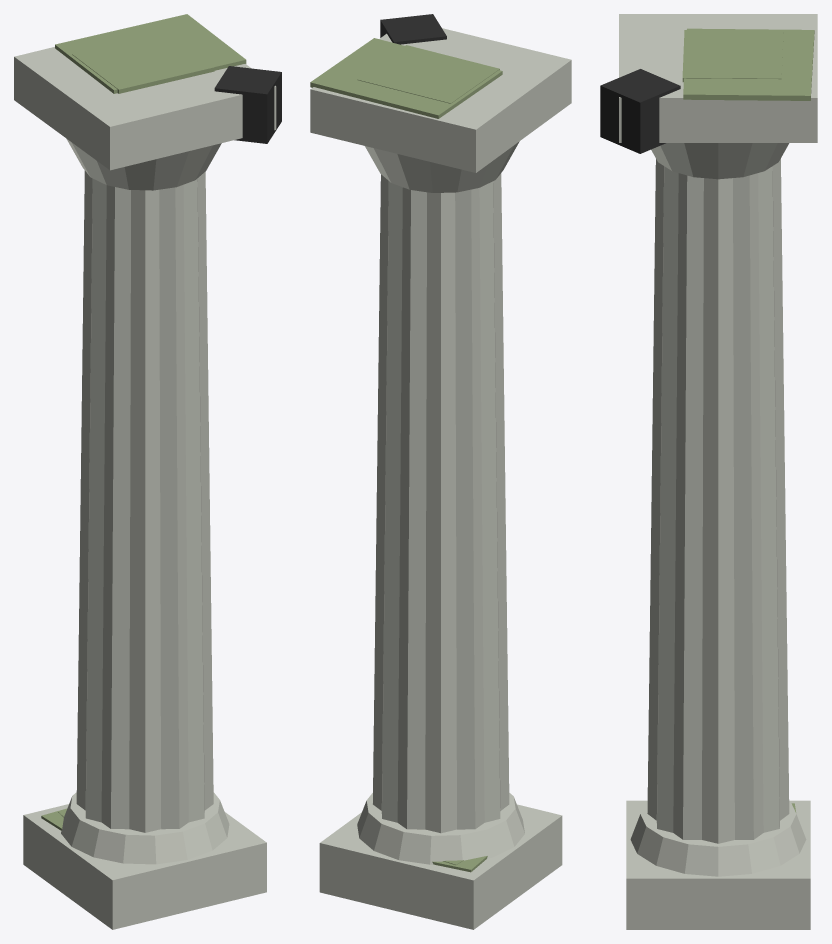
Rendered from ruin_column.glb.
3 renders of one model, left to right at view 1: azimuth 30°, elevation 25°; view 2: azimuth 150°, elevation 25°; view 3: azimuth 270°, elevation 25°, orthographic. The views are drawn at different scales.
Visible parts, largest first — view 1: ruin_column; view 2: ruin_column; view 3: ruin_column.
Boxes of the visible parts, left/top/right/bottom form: ruin_column: left=14, top=14, right=281, bottom=929; ruin_column: left=310, top=14, right=571, bottom=929; ruin_column: left=600, top=14, right=817, bottom=929.
Size of the model in its own units: 1.53 by 6.53 by 1.53.
